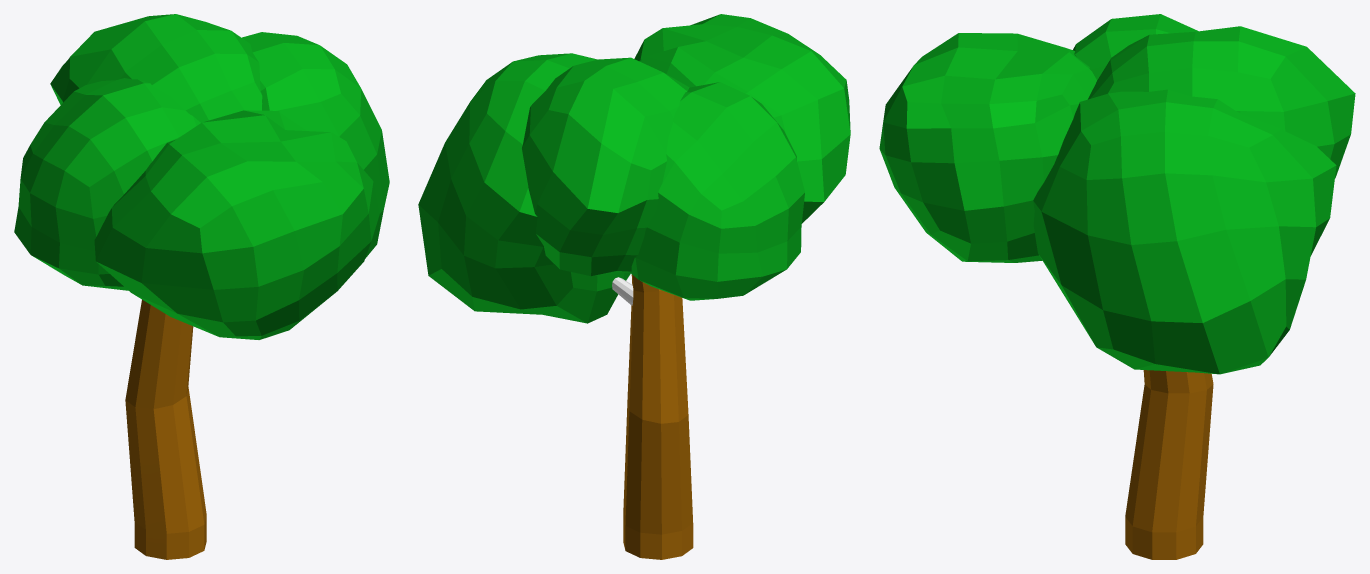
File: BigTree.fbx
3 views of the same model, side by side, from view 1: azimuth 30°, elevation 25°; view 2: azimuth 150°, elevation 25°; view 3: azimuth 270°, elevation 25° (orthographic). The views are drawn at different scales.
Parts seen in each view (by area): view 1: Cube.010, Cylinder.014; view 2: Cube.010, Cylinder.014; view 3: Cube.010, Cylinder.014.
Boxes of the visible parts, <box> form: Cube.010: <box>14,14,389,339</box>; Cylinder.014: <box>125,299,206,559</box>; Cube.010: <box>418,14,850,323</box>; Cylinder.014: <box>623,274,693,559</box>; Cube.010: <box>879,14,1355,374</box>; Cylinder.014: <box>1125,370,1213,559</box>.
Bounding box in the file's own units: 5.89 × 7.71 × 6.35.
